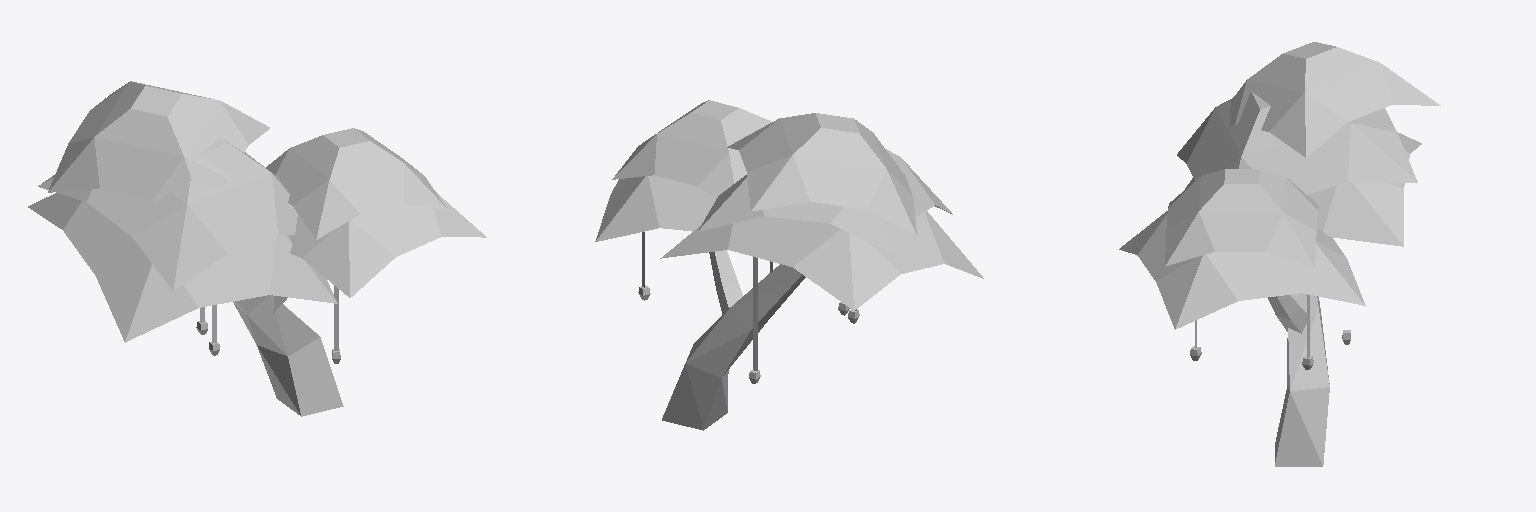
File: svetjaschijsja_oduvanchik_002.obj
The picture shows the model from 3 angles: view 1: azimuth 30°, elevation 25°; view 2: azimuth 150°, elevation 25°; view 3: azimuth 270°, elevation 25°; orthographic projection.
Visible parts, largest first — view 1: Светящийся_одуванчик.002; view 2: Светящийся_одуванчик.002; view 3: Светящийся_одуванчик.002.
Boxes of the visible parts, x1,y1,x2,y2 form: Светящийся_одуванчик.002: [28, 81, 486, 416]; Светящийся_одуванчик.002: [595, 100, 983, 430]; Светящийся_одуванчик.002: [1119, 42, 1440, 466].
Size of the model in its own units: 4.91 by 4.44 by 3.84.